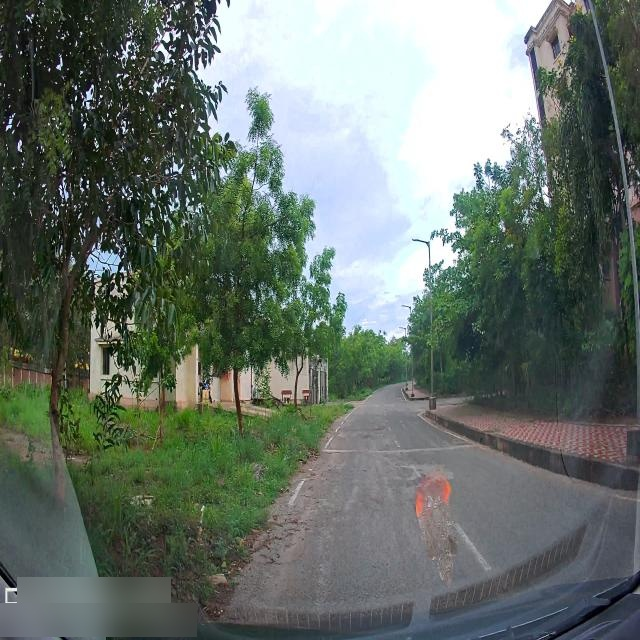pothole: (372, 448, 402, 512), (415, 458, 456, 484)
